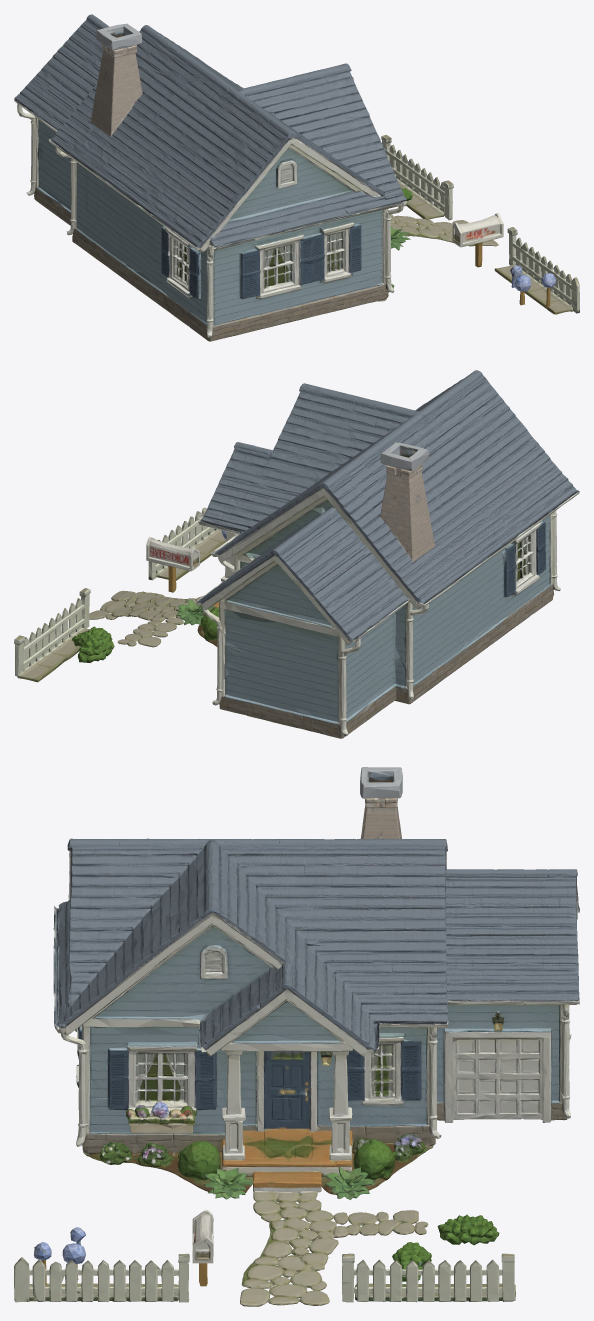
File: house_1storyE_blue.glb
3 renders of one model, top to bottom at view 1: azimuth 30°, elevation 25°; view 2: azimuth 150°, elevation 25°; view 3: azimuth 270°, elevation 25°, orthographic. The views are drawn at different scales.
Parts seen in each view (by area): view 1: tripo_node_c3e4f76d-2187-4e77-ac27-bd5d1b6e5592; view 2: tripo_node_c3e4f76d-2187-4e77-ac27-bd5d1b6e5592; view 3: tripo_node_c3e4f76d-2187-4e77-ac27-bd5d1b6e5592.
Boxes of the visible parts, left/top/right/bottom form: tripo_node_c3e4f76d-2187-4e77-ac27-bd5d1b6e5592: left=14, top=14, right=579, bottom=341; tripo_node_c3e4f76d-2187-4e77-ac27-bd5d1b6e5592: left=14, top=370, right=579, bottom=738; tripo_node_c3e4f76d-2187-4e77-ac27-bd5d1b6e5592: left=14, top=767, right=579, bottom=1306.
Size of the model in its own units: 0.9736 by 0.6389 by 1.
1 material, 1 textured.
